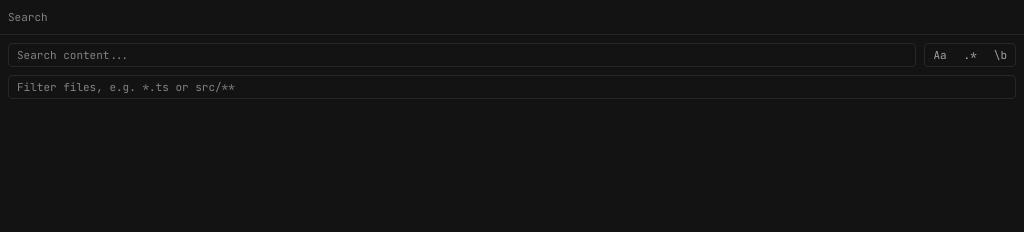
SearchPanel › Roving nav keyboard navigation › Enter on a header row toggles that file's expanded state without opening a file
The image size is (1024, 232).
Type "test" into the field with placeholder "Search content..." at (462, 55), box [8, 43, 916, 67]
Wait 200 ms
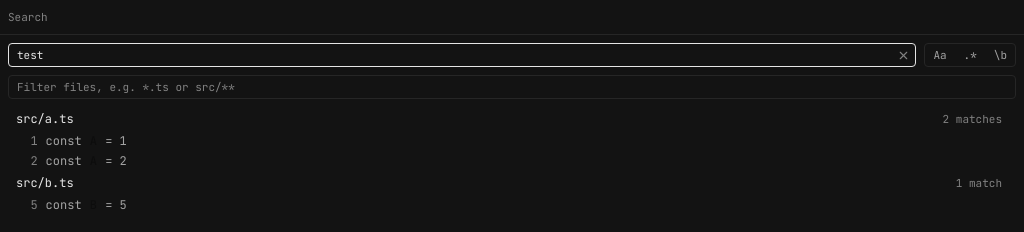
Expected: the text "src/a.ts" is shown, [16, 111, 74, 127]
Expected: the number of buttons with class "search-panel__match-row" is 3, [8, 131, 1010, 151]; [8, 151, 1010, 171]; [8, 195, 1010, 215]
Press Enter in the field with placeholder "Search content...", box [8, 43, 916, 67]
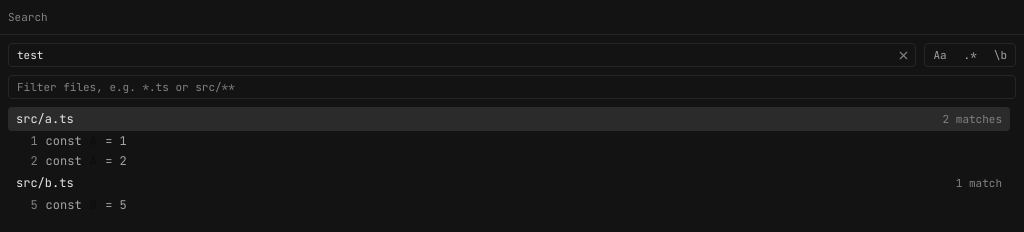
Press Enter in the element with class "search-panel__results-list", box [8, 107, 1010, 215]
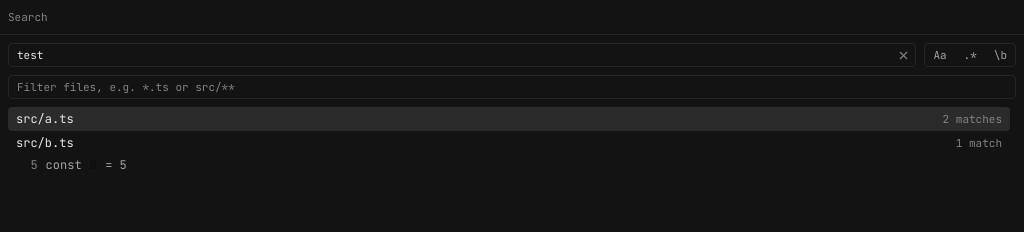
Expected: the number of buttons with class "search-panel__match-row" is 1, [8, 155, 1010, 175]
